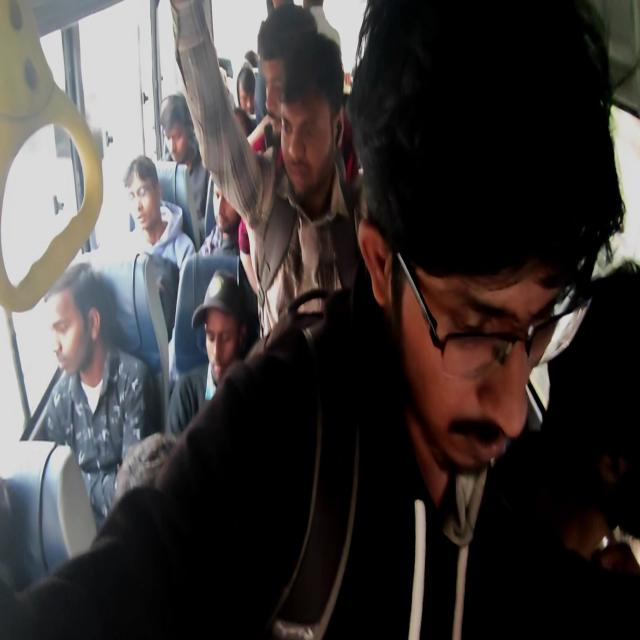person: (394, 235, 568, 484), (575, 276, 640, 549), (270, 14, 345, 194), (44, 262, 109, 382), (194, 270, 251, 390), (0, 462, 50, 584), (161, 92, 203, 170), (123, 151, 163, 231), (211, 183, 247, 230), (237, 64, 257, 119), (269, 0, 289, 12), (349, 65, 356, 83)
